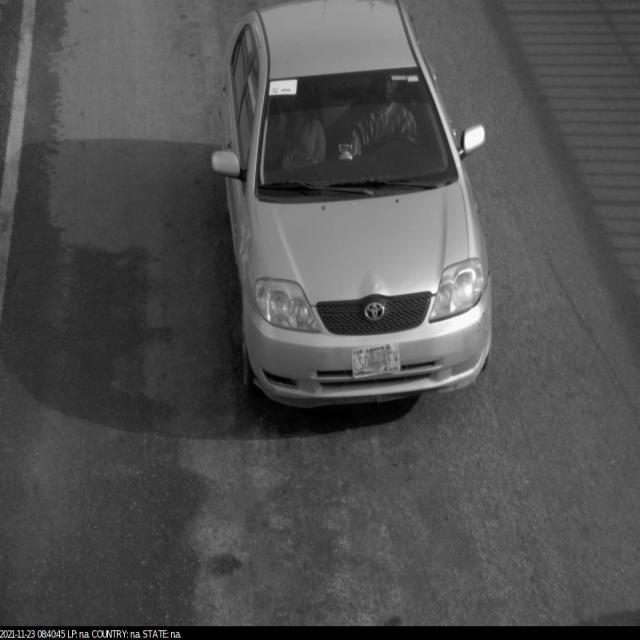windshield: (244, 61, 466, 214)
